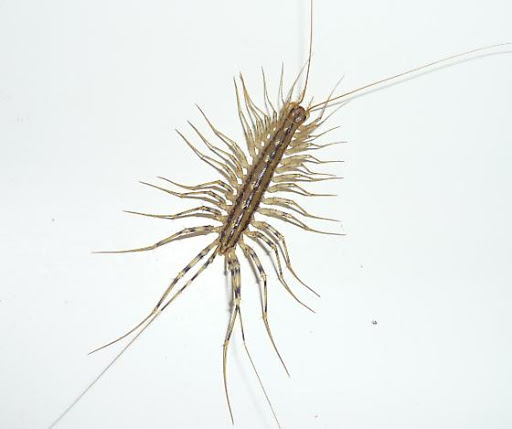centipede: (90, 62, 382, 418)
